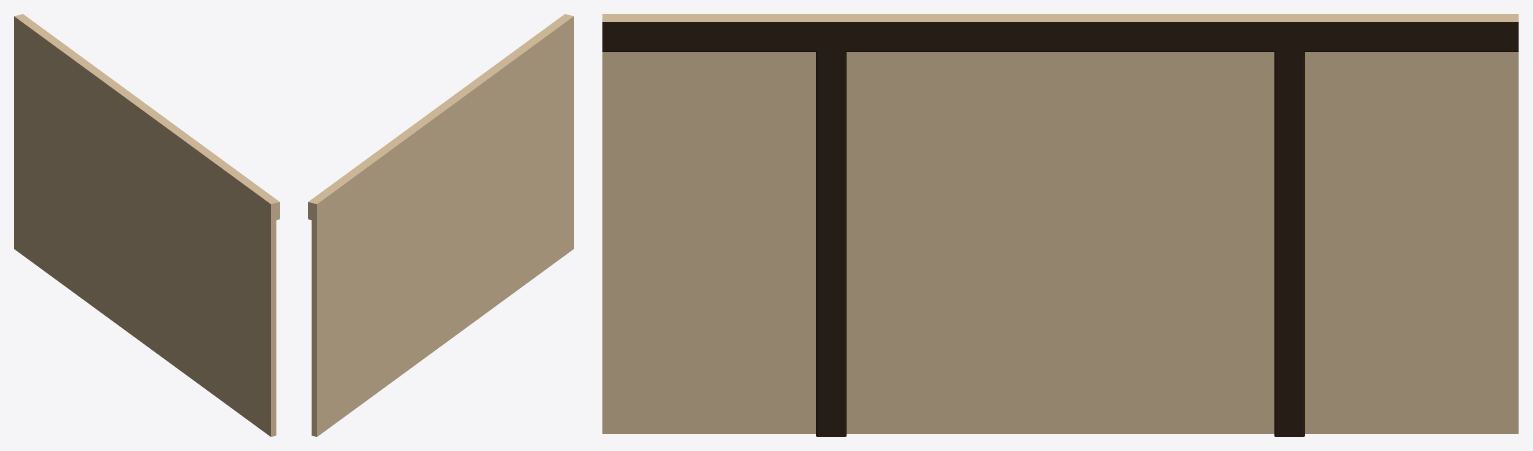
Rendered from Wall_Kotaro.fbx.
The picture shows the model from 3 angles, left to right: view 1: azimuth 30°, elevation 25°; view 2: azimuth 150°, elevation 25°; view 3: azimuth 270°, elevation 25°; orthographic projection. The views are drawn at different scales.
Parts seen in each view (by area): view 1: Cube; view 2: Cube; view 3: Cube.
Boxes of the visible parts, x1,y1,x2,y2 form: Cube: [14, 14, 279, 436]; Cube: [308, 14, 573, 436]; Cube: [602, 14, 1518, 436].
Bounding box in the file's own units: 16.29 × 400 × 800.
